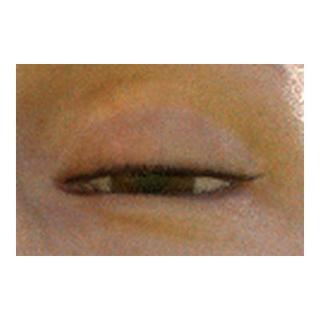pupil: (137, 164, 167, 195)
